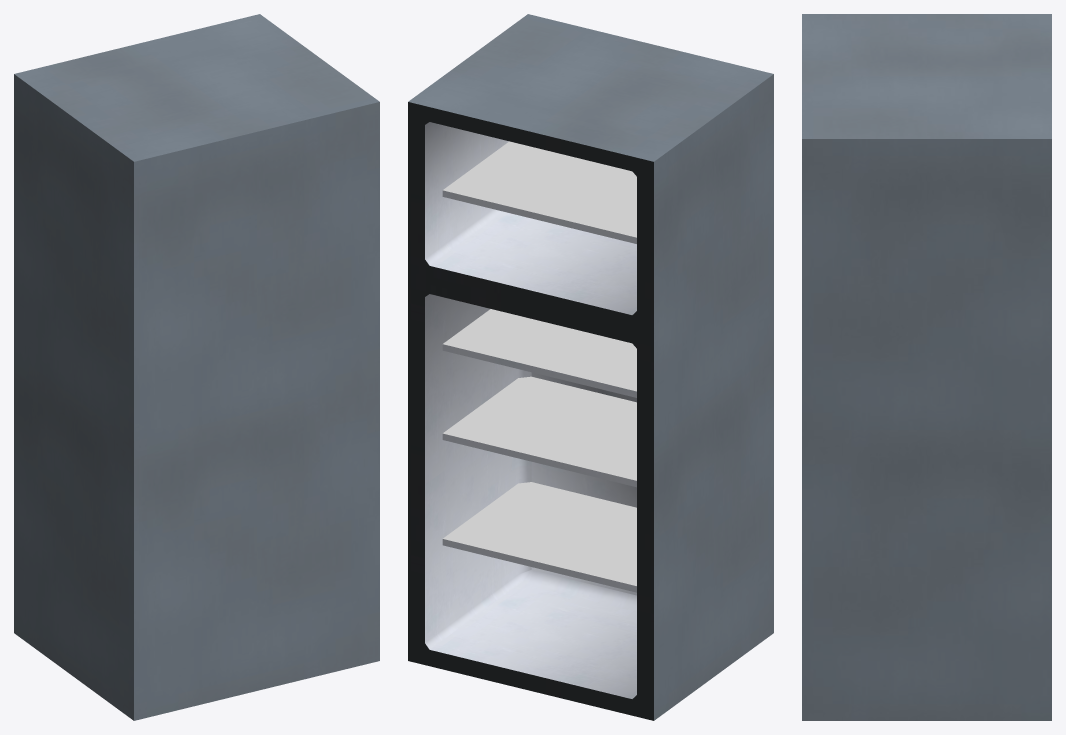
Rendered from Refrigerator.glb.
3 views of the same model, side by side, from view 1: azimuth 30°, elevation 25°; view 2: azimuth 150°, elevation 25°; view 3: azimuth 270°, elevation 25° (orthographic). The views are drawn at different scales.
Parts seen in each view (by area): view 1: Refrigerator; view 2: Refrigerator; view 3: Refrigerator.
Part boxes in pixels (<box>): Refrigerator: <box>14,14,379,720</box>; Refrigerator: <box>408,14,773,720</box>; Refrigerator: <box>802,14,1051,720</box>.
Size of the model in its own units: 0.9612 by 2.09 by 0.8125.
Materials: 4 (3 with a texture image).
